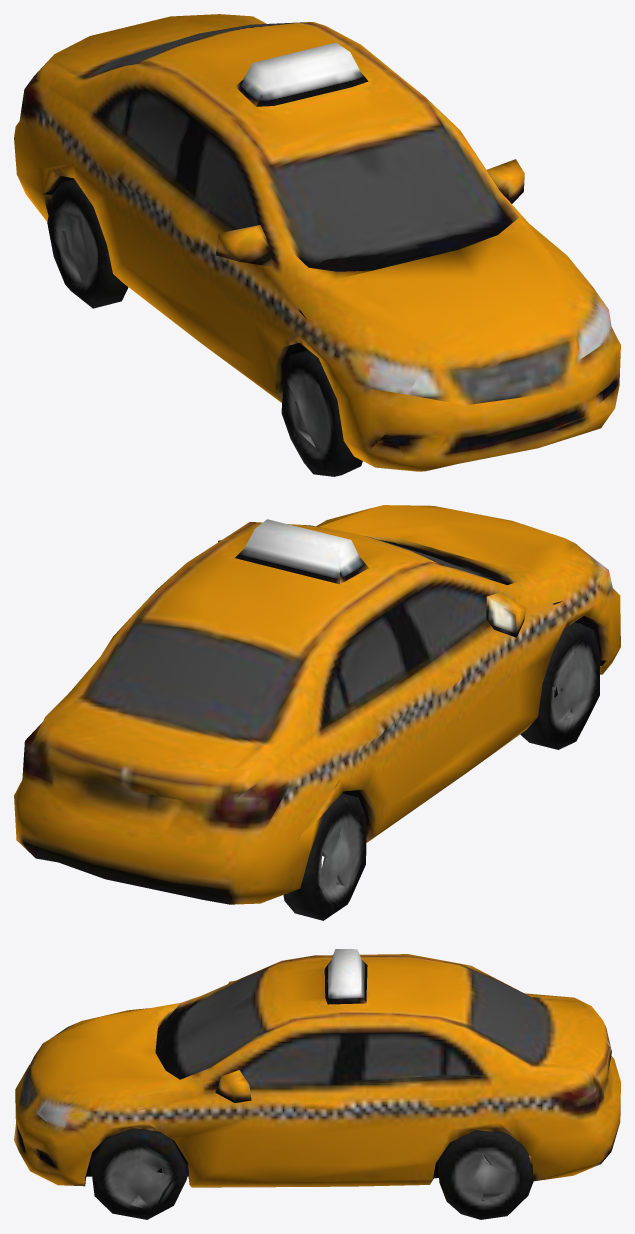
Rendered from chicago_taxi.glb.
3 renders of one model, top to bottom at view 1: azimuth 30°, elevation 25°; view 2: azimuth 150°, elevation 25°; view 3: azimuth 270°, elevation 25°, orthographic. The views are drawn at different scales.
Parts seen in each view (by area): view 1: chicago_taxi; view 2: chicago_taxi; view 3: chicago_taxi.
Boxes of the visible parts, bbox=[...] form: chicago_taxi: bbox=[14, 14, 620, 476]; chicago_taxi: bbox=[14, 505, 620, 920]; chicago_taxi: bbox=[14, 949, 620, 1219].
Size of the model in its own units: 2.09 by 1.89 by 4.92.
1 material, 1 textured.
